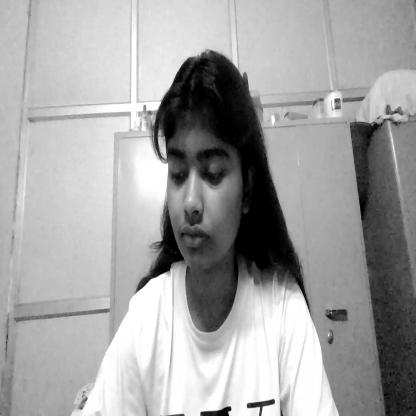Distracted: (155, 49, 264, 278)
